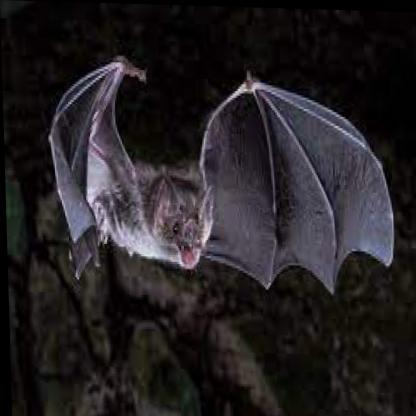Bat: (44, 55, 397, 298)
